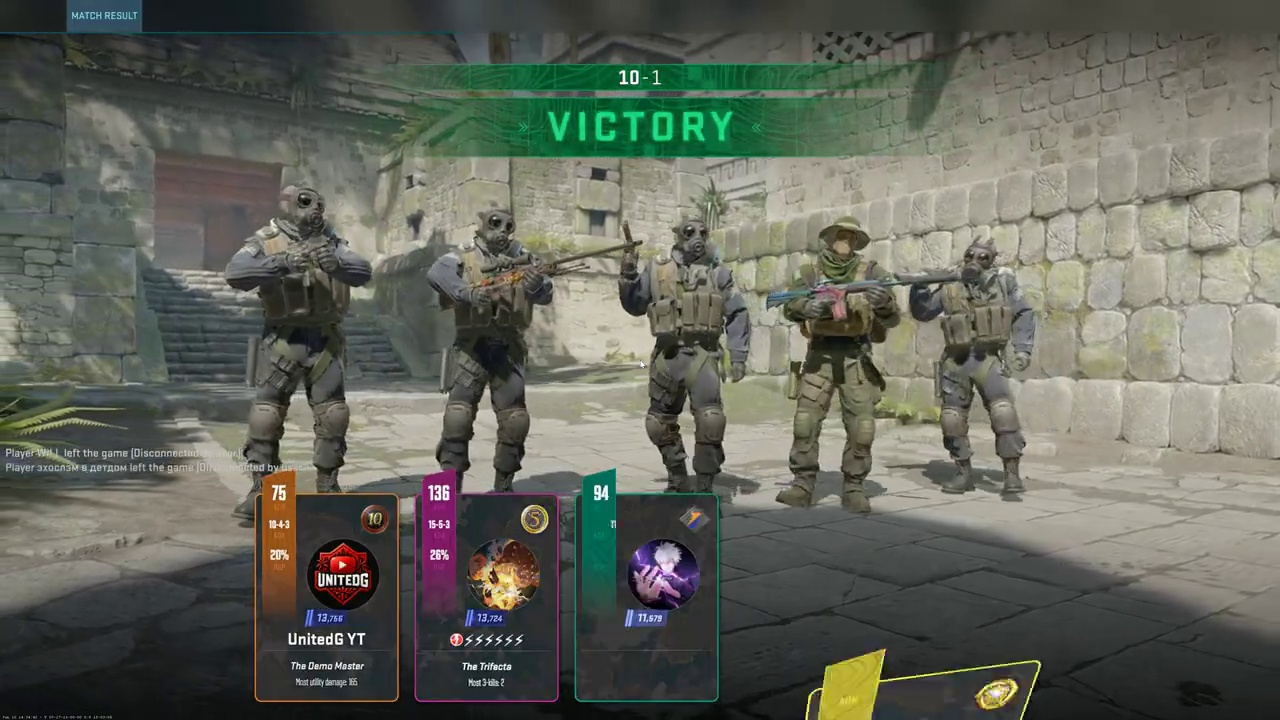CT: (238, 184, 363, 519), (780, 219, 895, 512), (628, 214, 740, 498), (428, 207, 540, 487), (931, 237, 1041, 495)
